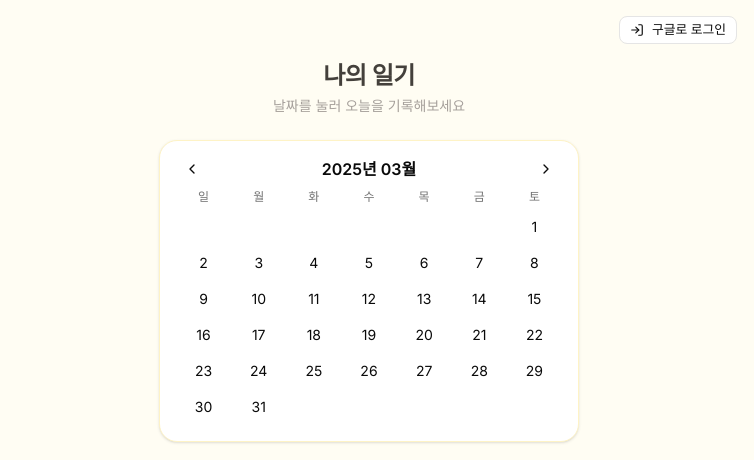
it: DIARY-003: 수동 일기 작성 및 저장 › 텍스트 영역에 내용을 입력하고 저장 버튼을 클릭하면 캘린더 화면으로 돌아오고 해당 날짜에 dot 표시가 생긴다
// 날짜 클릭하여 일기 작성 화면 진입
Click the button "19" at (369, 335), box [353,319,385,351]
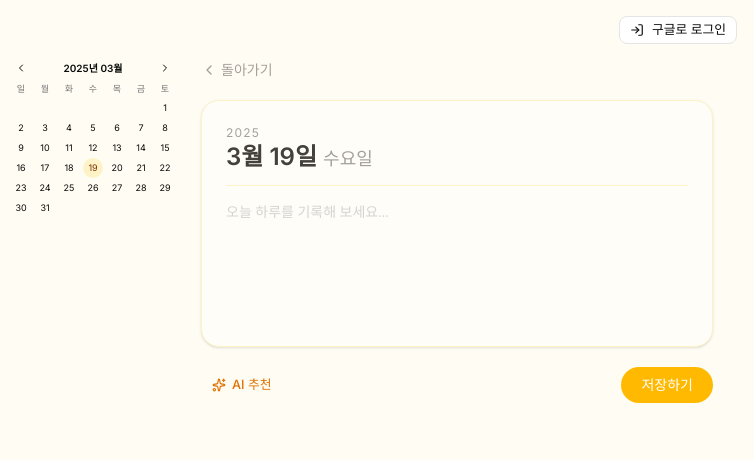
Type "오늘 카페에서 책을 읽었다" into the text box at (457, 262), box [226,202,688,322]
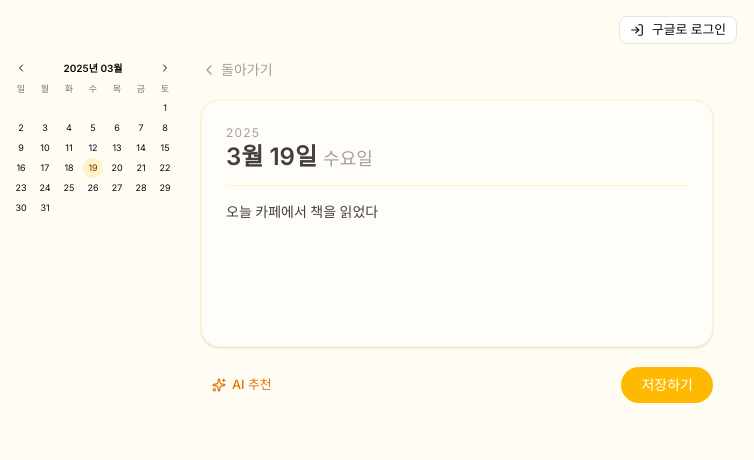
// 저장 버튼 클릭
Click the button "저장하기" at (667, 385), box [622,367,713,403]
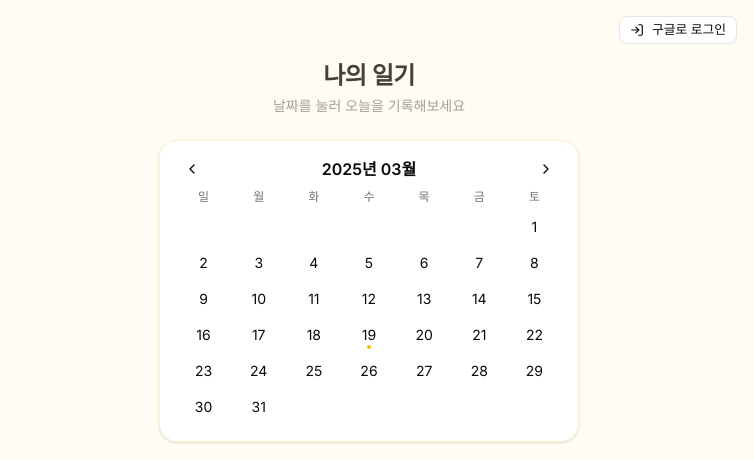
Expected: the element with test id "diary-dot-2025-03-19" is shown, [367,345,371,349]
